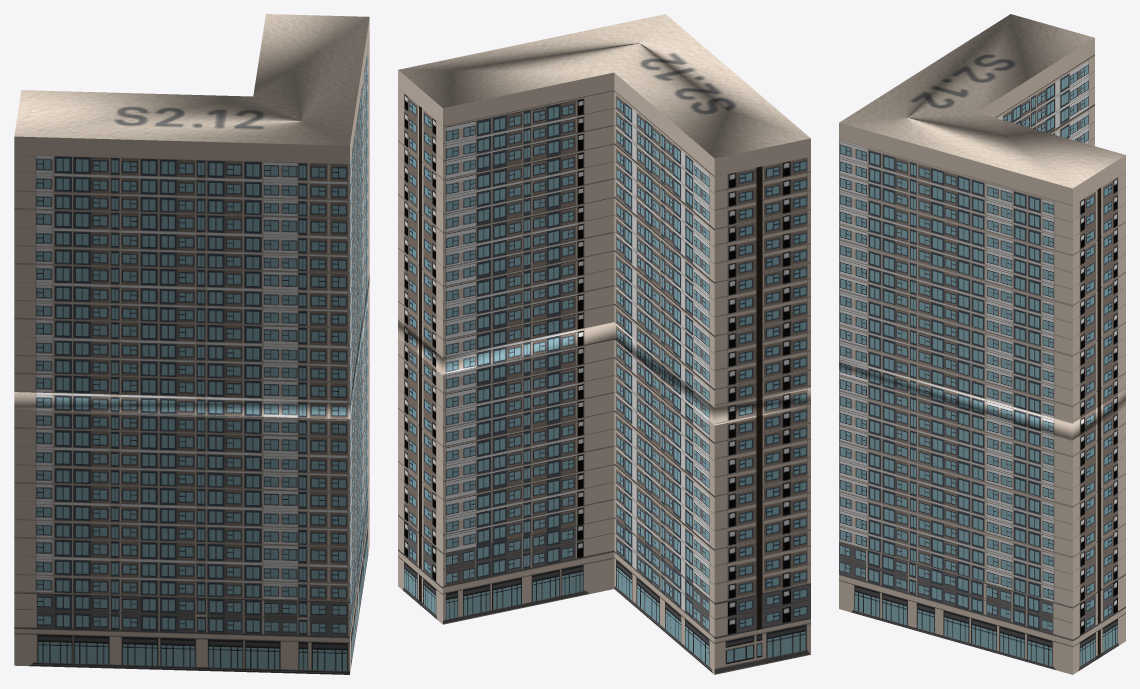
The picture shows the model from 3 angles, left to right: view 1: azimuth 30°, elevation 25°; view 2: azimuth 150°, elevation 25°; view 3: azimuth 270°, elevation 25°; orthographic projection. The views are drawn at different scales.
Visible parts, largest first — view 1: Asset3DLoader.sceneRoot; view 2: Asset3DLoader.sceneRoot; view 3: Asset3DLoader.sceneRoot.
Boxes of the visible parts, x1,y1,x2,y2 form: Asset3DLoader.sceneRoot: [14, 14, 369, 674]; Asset3DLoader.sceneRoot: [398, 14, 810, 674]; Asset3DLoader.sceneRoot: [839, 14, 1125, 674].
Bounding box in the file's own units: 73.5 × 95.5 × 51.03.
Materials: 1 (1 with a texture image).
